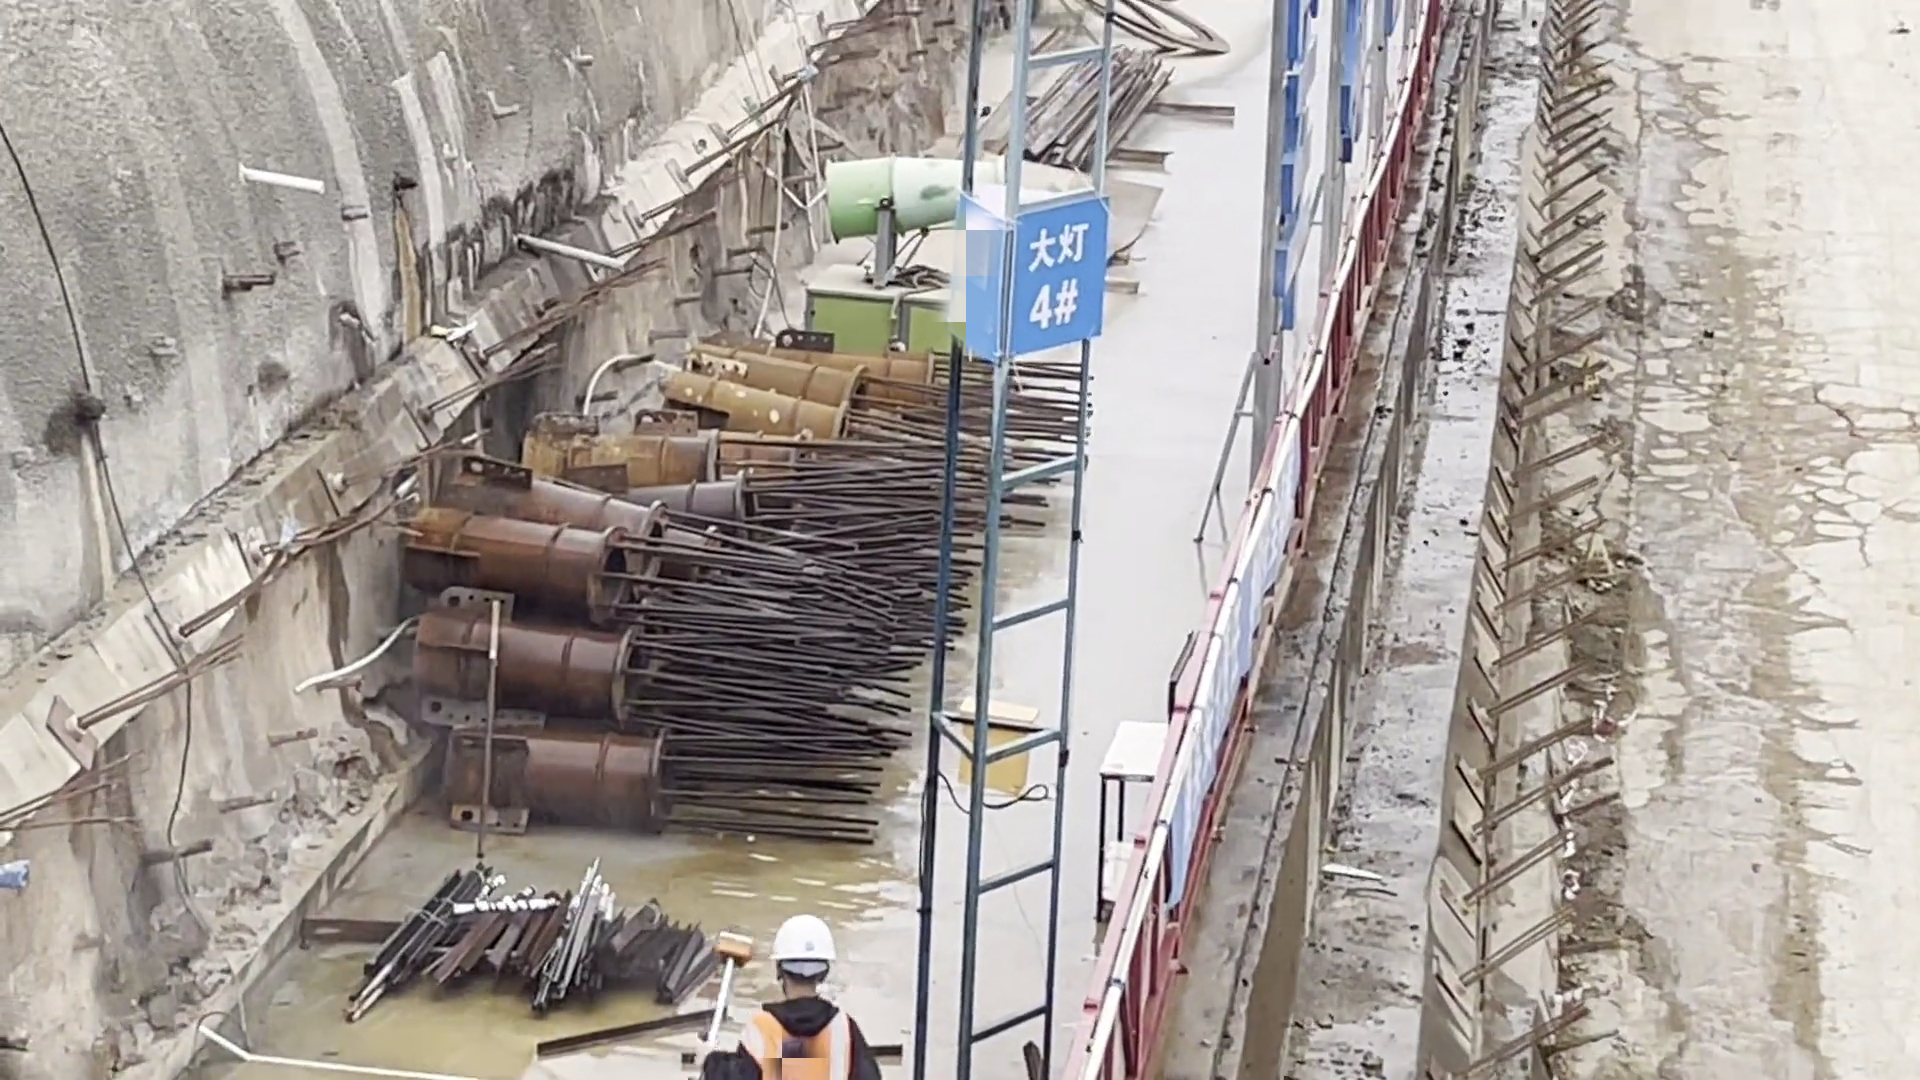ebox: (938, 680, 1035, 808)
fence: (1185, 400, 1327, 804), (1046, 711, 1196, 1080), (1295, 161, 1384, 400), (1380, 1, 1461, 226)
helmet: (769, 916, 846, 988)
person: (700, 903, 882, 1080)
slogan: (1158, 403, 1317, 918), (929, 159, 1145, 415)
vest: (723, 1004, 858, 1080)
